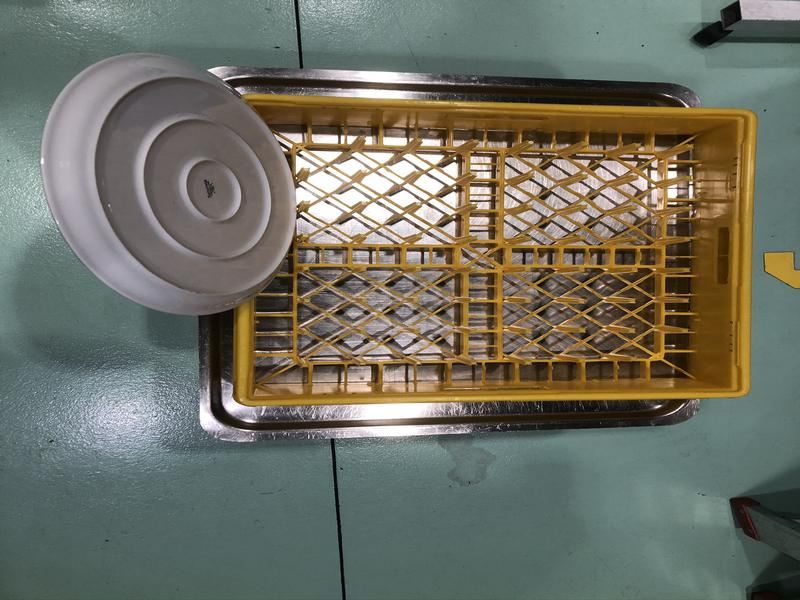Inclined_dish: (38, 50, 298, 317)
